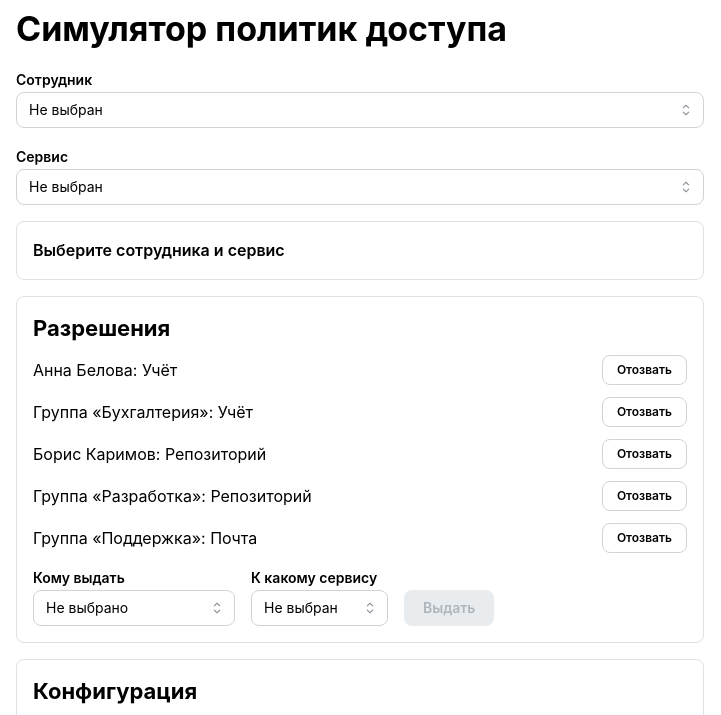
Test: редактирование разрешений › сообщает о повторной выдаче и не создаёт дубль
The width and height of the screenshot is (721, 715).
Select "Анна Белова" in the dropdown with test id "permission-subject-select" at point(134, 608), box [33, 590, 235, 626]
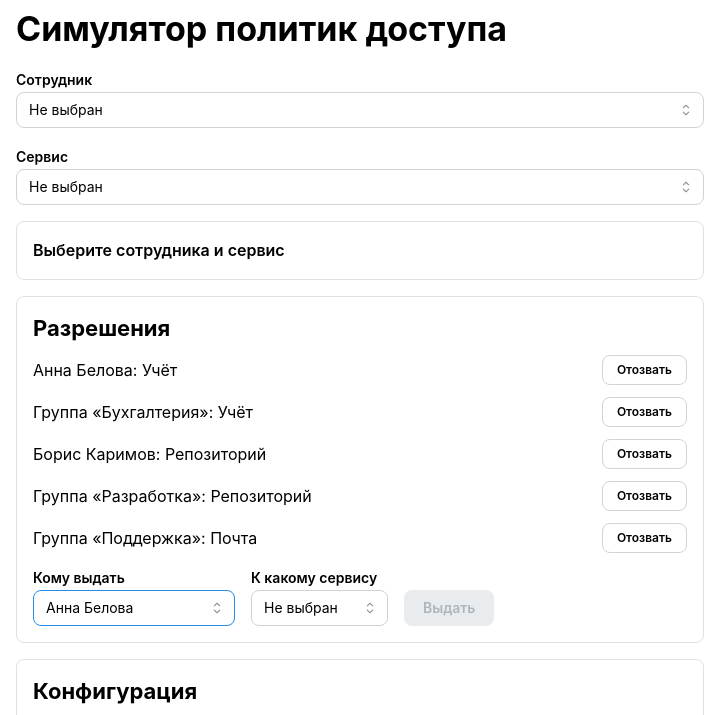
Select "Учёт" in the dropdown with test id "permission-service-select" at point(320, 608), box [251, 590, 388, 626]
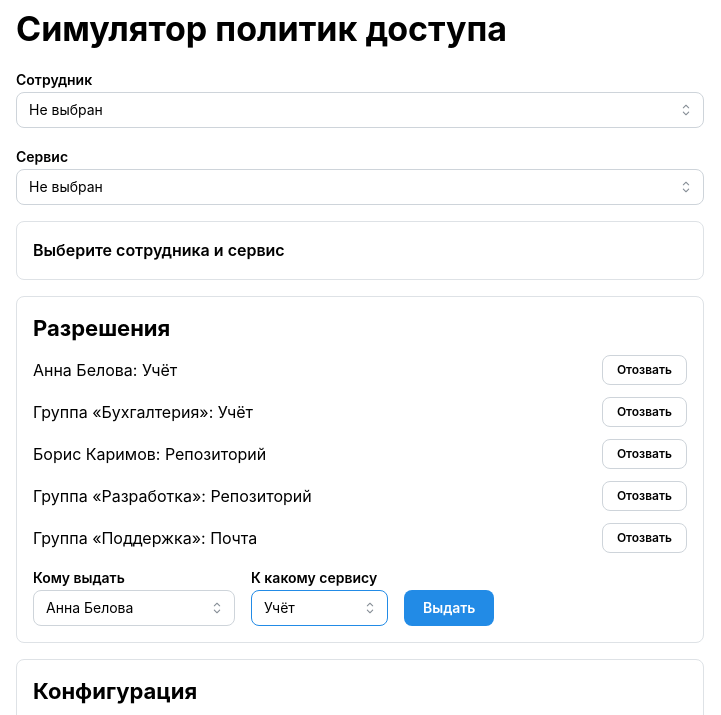
Click the button with test id "permission-add" at point(449, 608), box [404, 590, 494, 626]
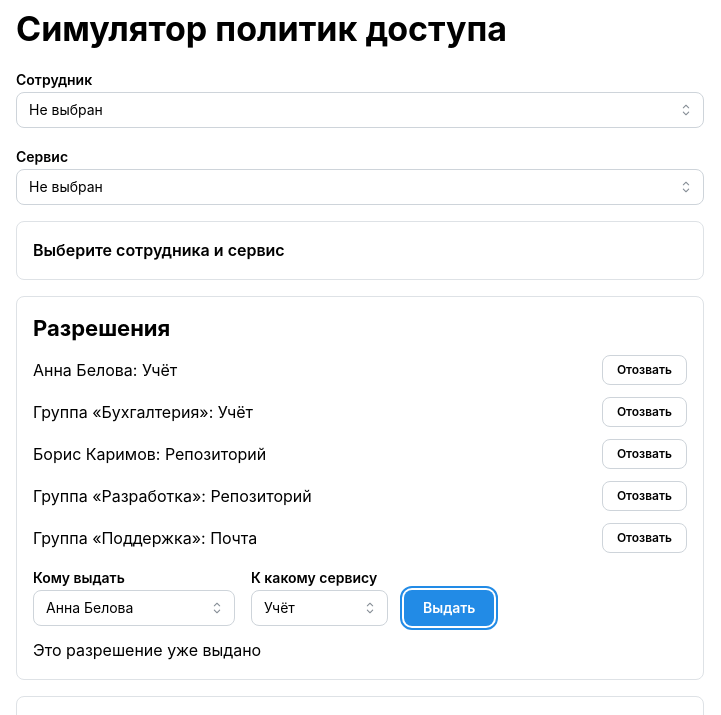
Expected: the text with test id "permission-message" shows "уже выдано", [33, 640, 261, 660]
